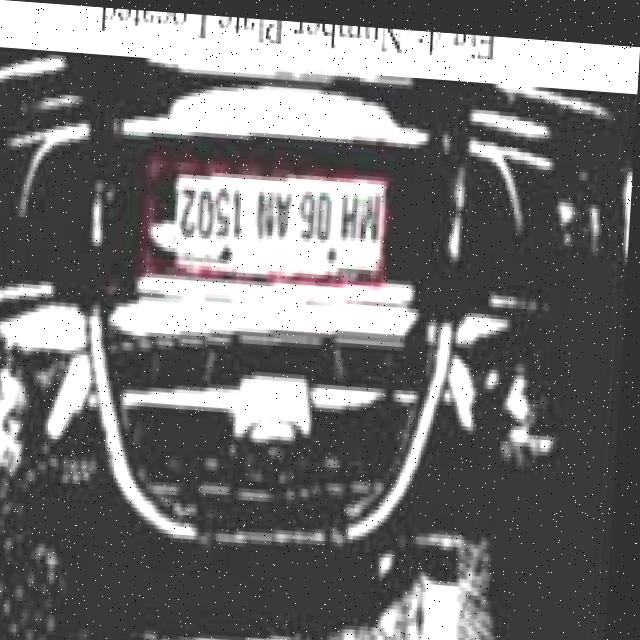plate: (159, 158, 399, 289)
